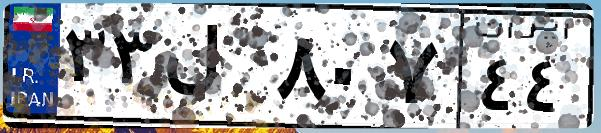0: (330, 28, 385, 110)
3: (57, 26, 110, 100), (110, 28, 158, 98)
4: (475, 38, 525, 113), (525, 38, 570, 115)
7: (385, 28, 445, 110)
8: (270, 28, 330, 110)
ل: (158, 20, 270, 120)
